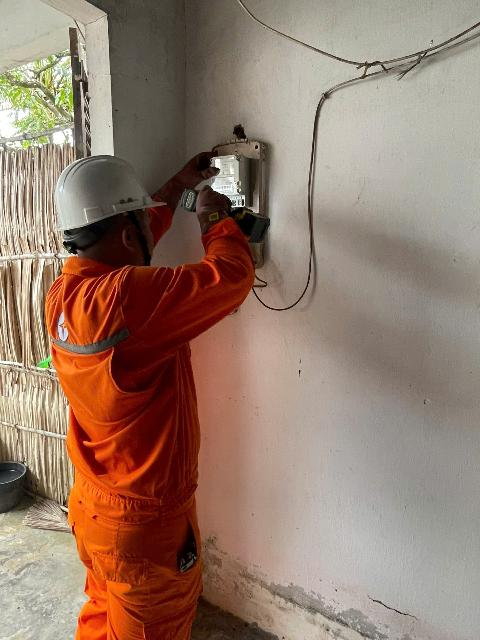gloves: (144, 156, 238, 202), (186, 186, 234, 238)
helmet: (28, 146, 165, 229)
